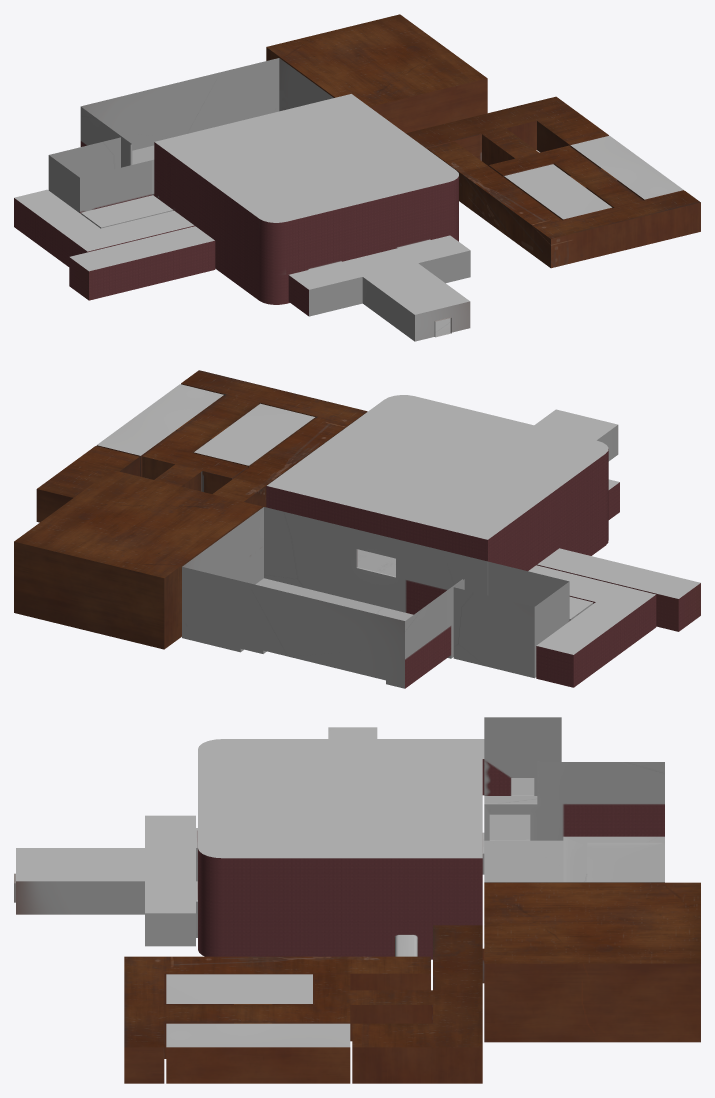
Rendered from Sanka Ati_R4.fbx.
The picture shows the model from 3 angles, top to bottom: view 1: azimuth 30°, elevation 25°; view 2: azimuth 150°, elevation 25°; view 3: azimuth 270°, elevation 25°; orthographic projection. The views are drawn at different scales.
Parts seen in each view (by area): view 1: Roof, Wall; view 2: Wall, Roof; view 3: Wall, Roof.
Boxes of the visible parts, bbox=[...] form: Roof: bbox=[14, 14, 700, 314]; Wall: bbox=[14, 47, 700, 341]; Wall: bbox=[14, 383, 700, 688]; Roof: bbox=[14, 370, 700, 654]; Wall: bbox=[14, 717, 700, 1083]; Roof: bbox=[16, 727, 700, 1047].
Size of the model in its own units: 75.74 by 68.7 by 11.21.
Materials: 2 (2 with a texture image).
